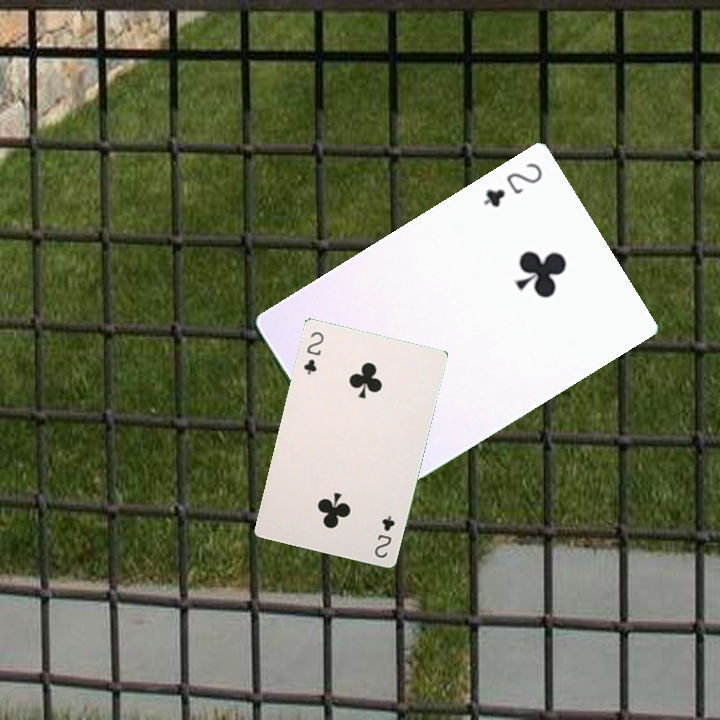2c: (479, 158, 546, 210), (299, 327, 326, 377), (370, 511, 397, 561)
